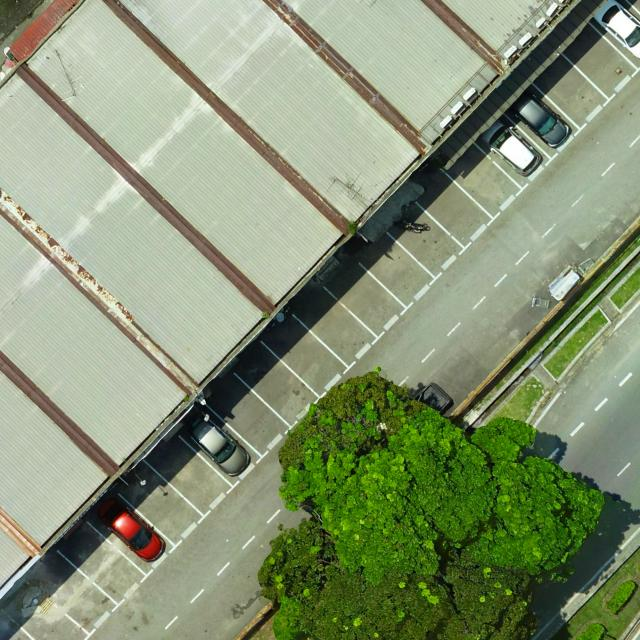Tree: (278, 405, 499, 578), (258, 518, 540, 640), (457, 416, 605, 586), (276, 370, 429, 466)
